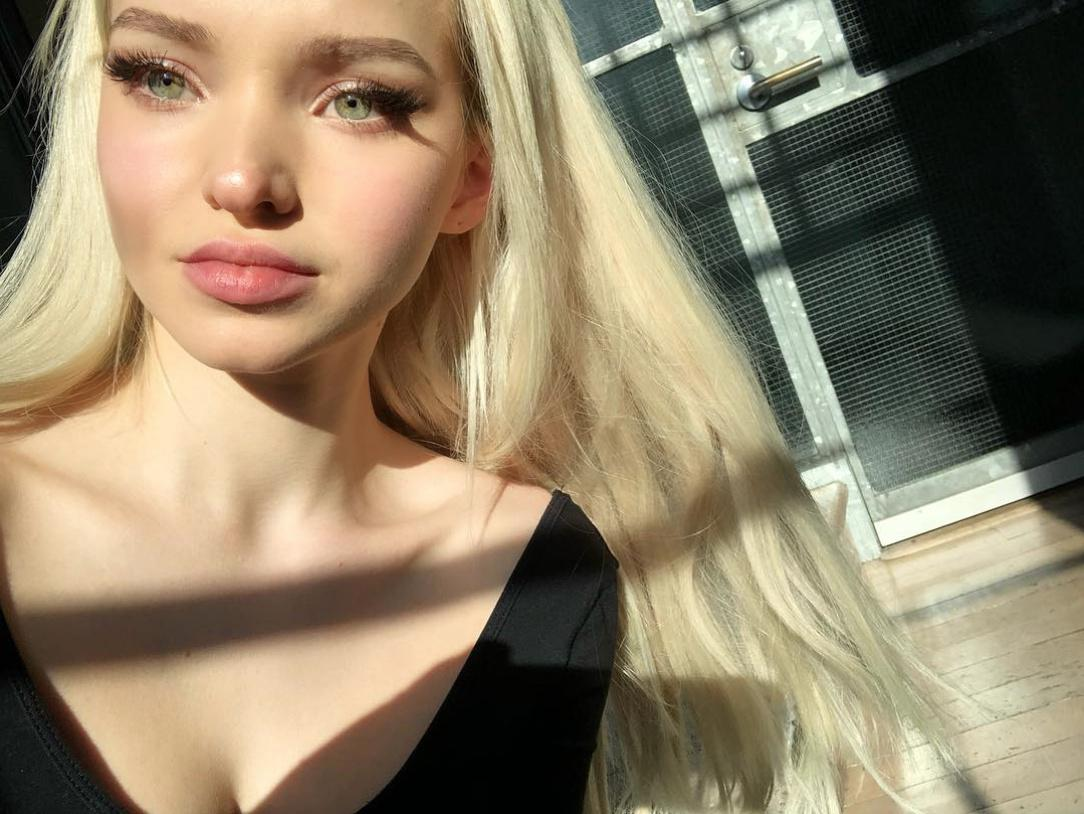face: (95, 1, 468, 375)
